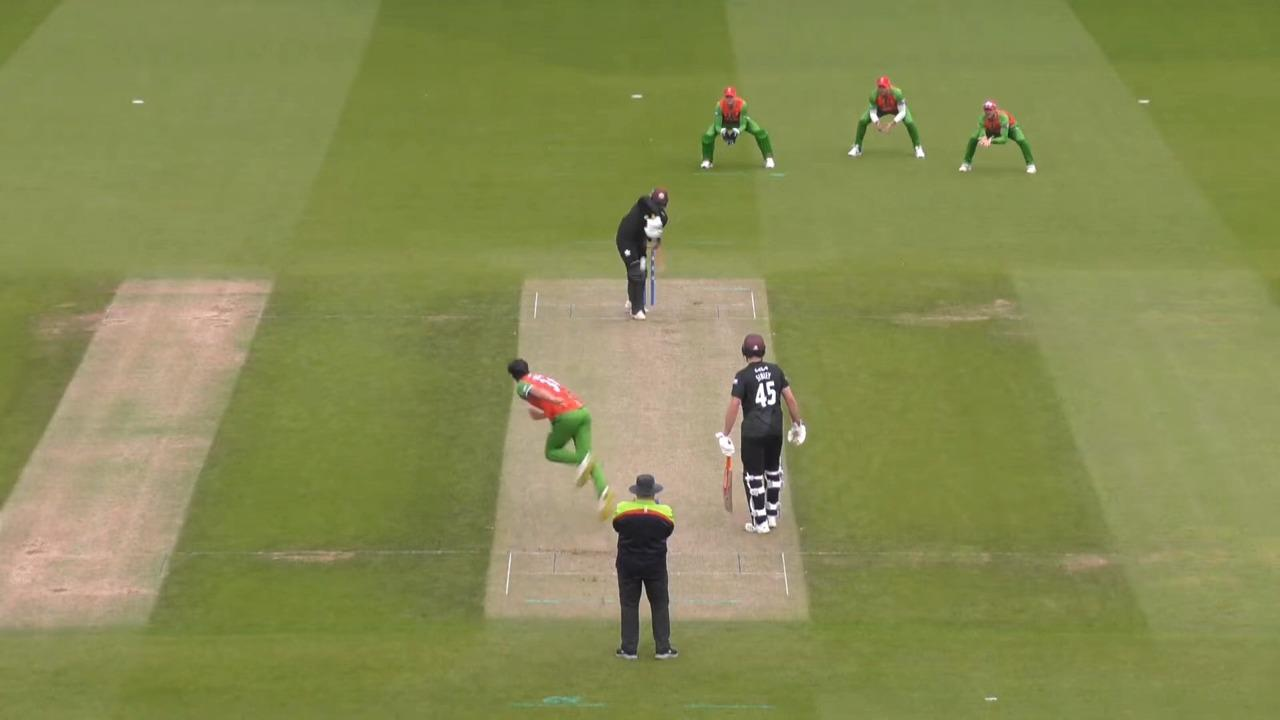sports ball: (640, 256, 646, 270)
